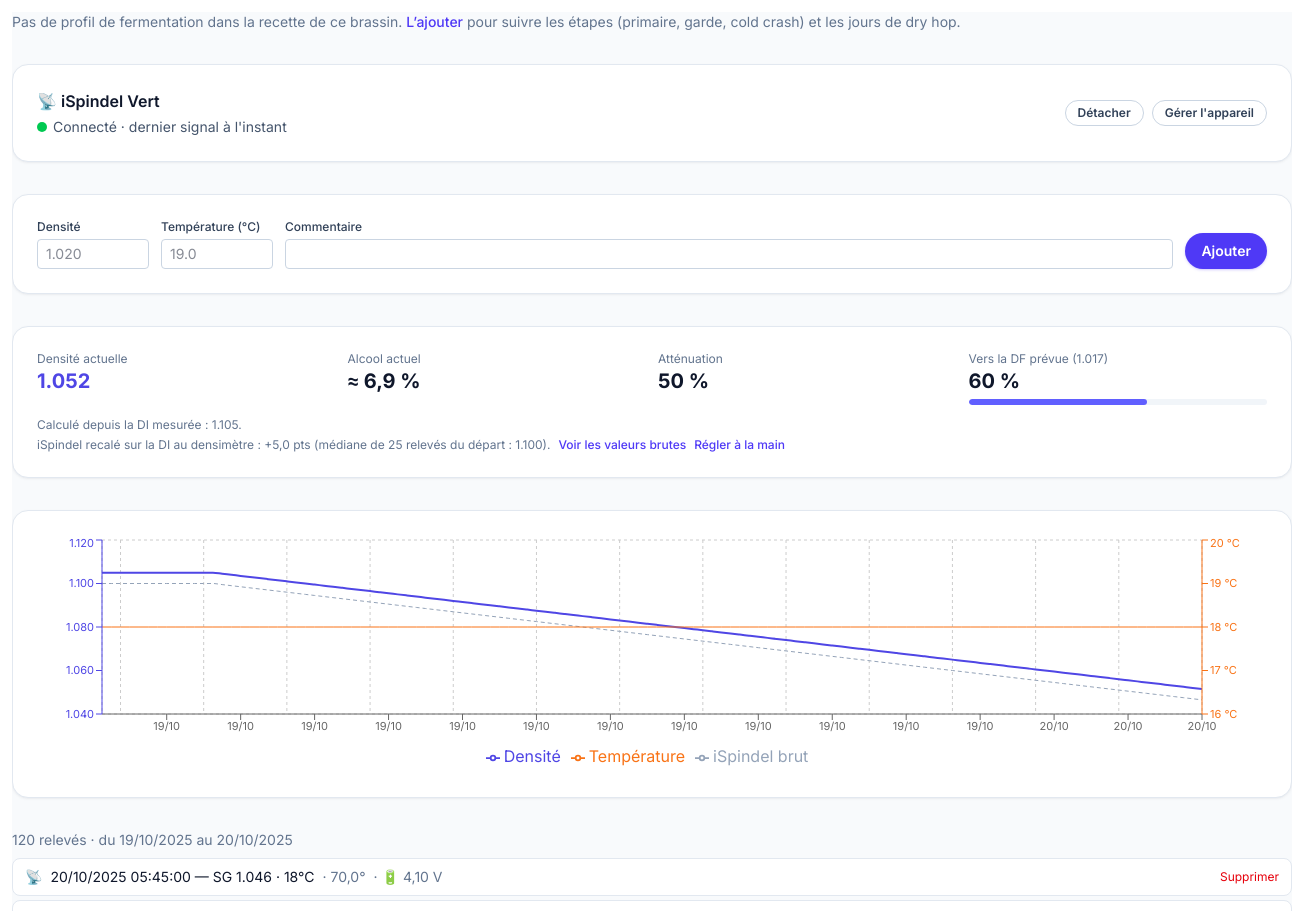
Test case: Suivi de fermentation › recale l’iSpindel sur la DI au densimètre, et permet de revoir les valeurs brutes
Expected: the text "iSpindel recalé sur la DI au densimètre : +5,0 pts" is shown, [37,437,550,452]
Expected: the text "1.052" is shown, [37,369,90,393]
Click the button "Voir les valeurs brutes" at (622, 445), box [558,437,686,453]
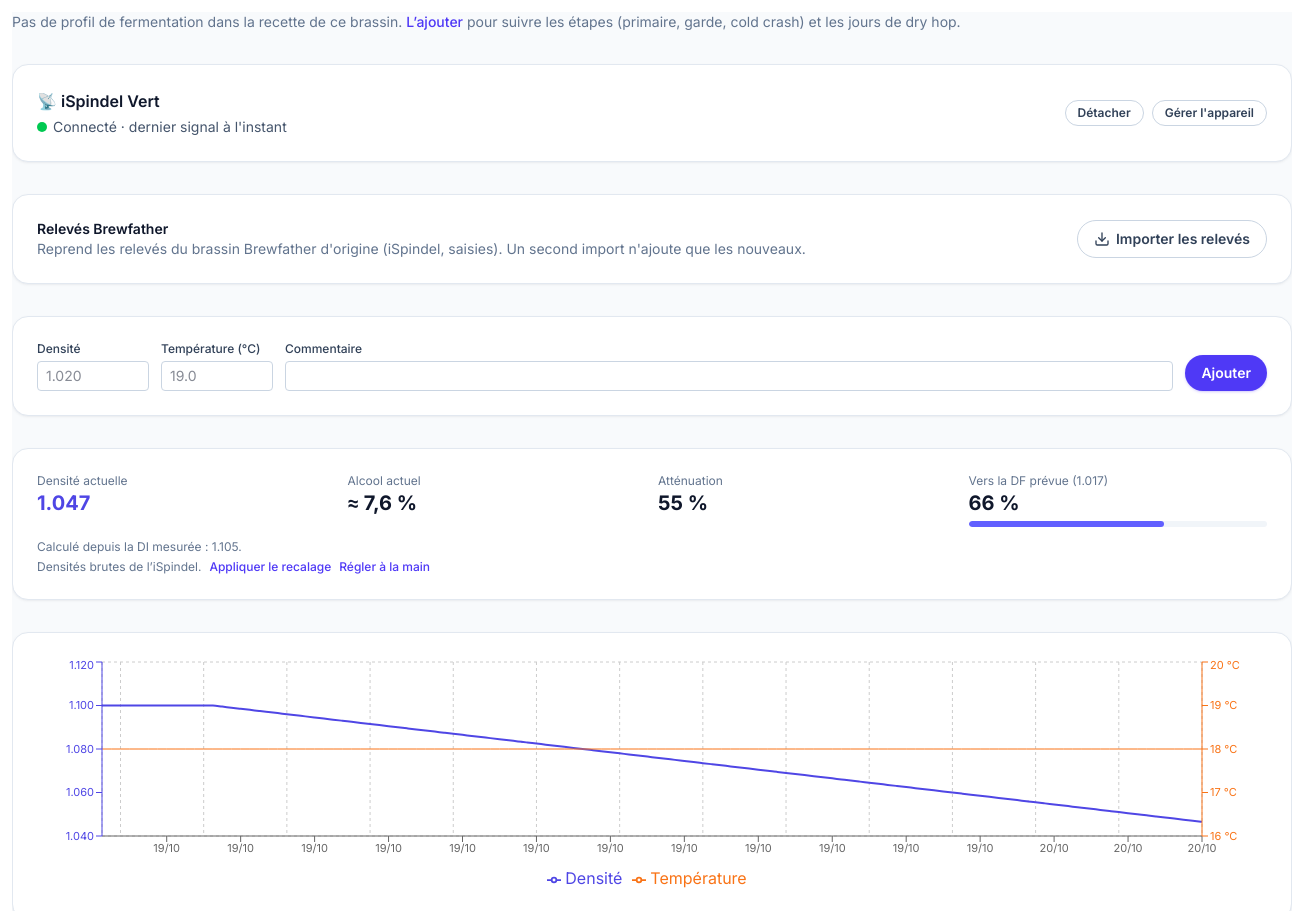
Now the text "1.047" is shown, box [37,491,90,515]
Now the text "Densités brutes de l’iSpindel." is shown, box [37,559,201,575]
